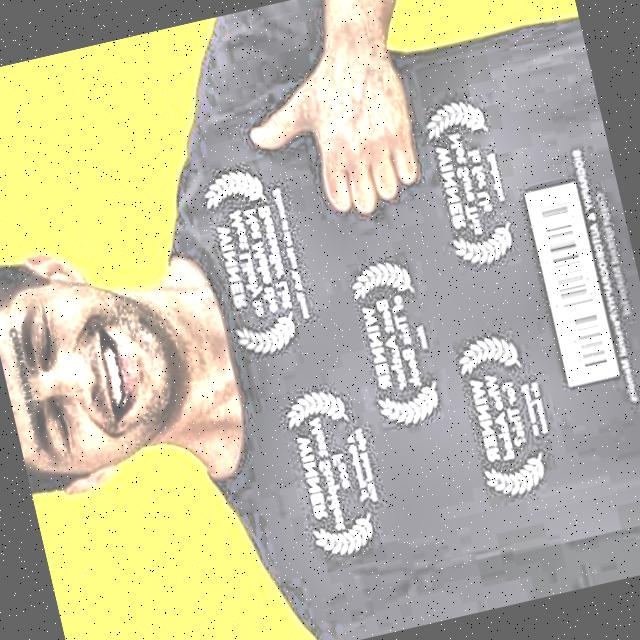happy: (0, 188, 253, 512)
